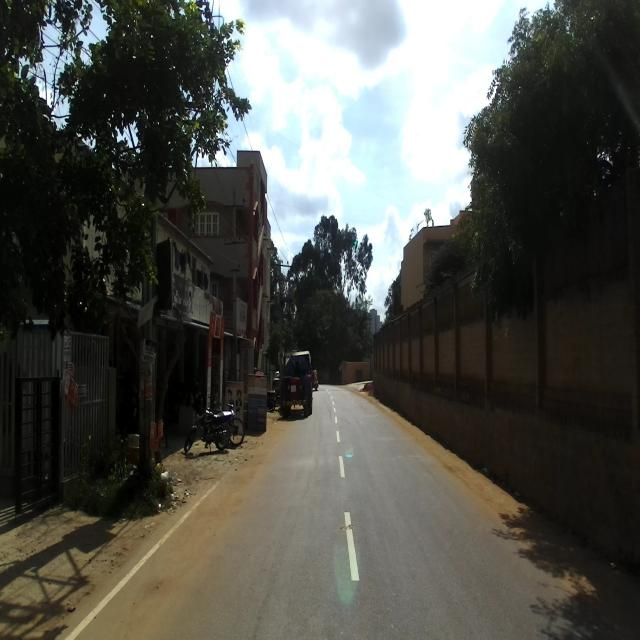motorcycle_bajaj: (183, 396, 234, 454)
